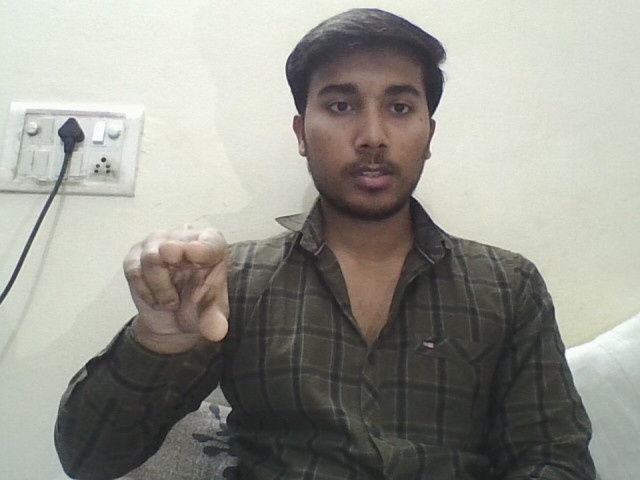no: (105, 219, 242, 349)
